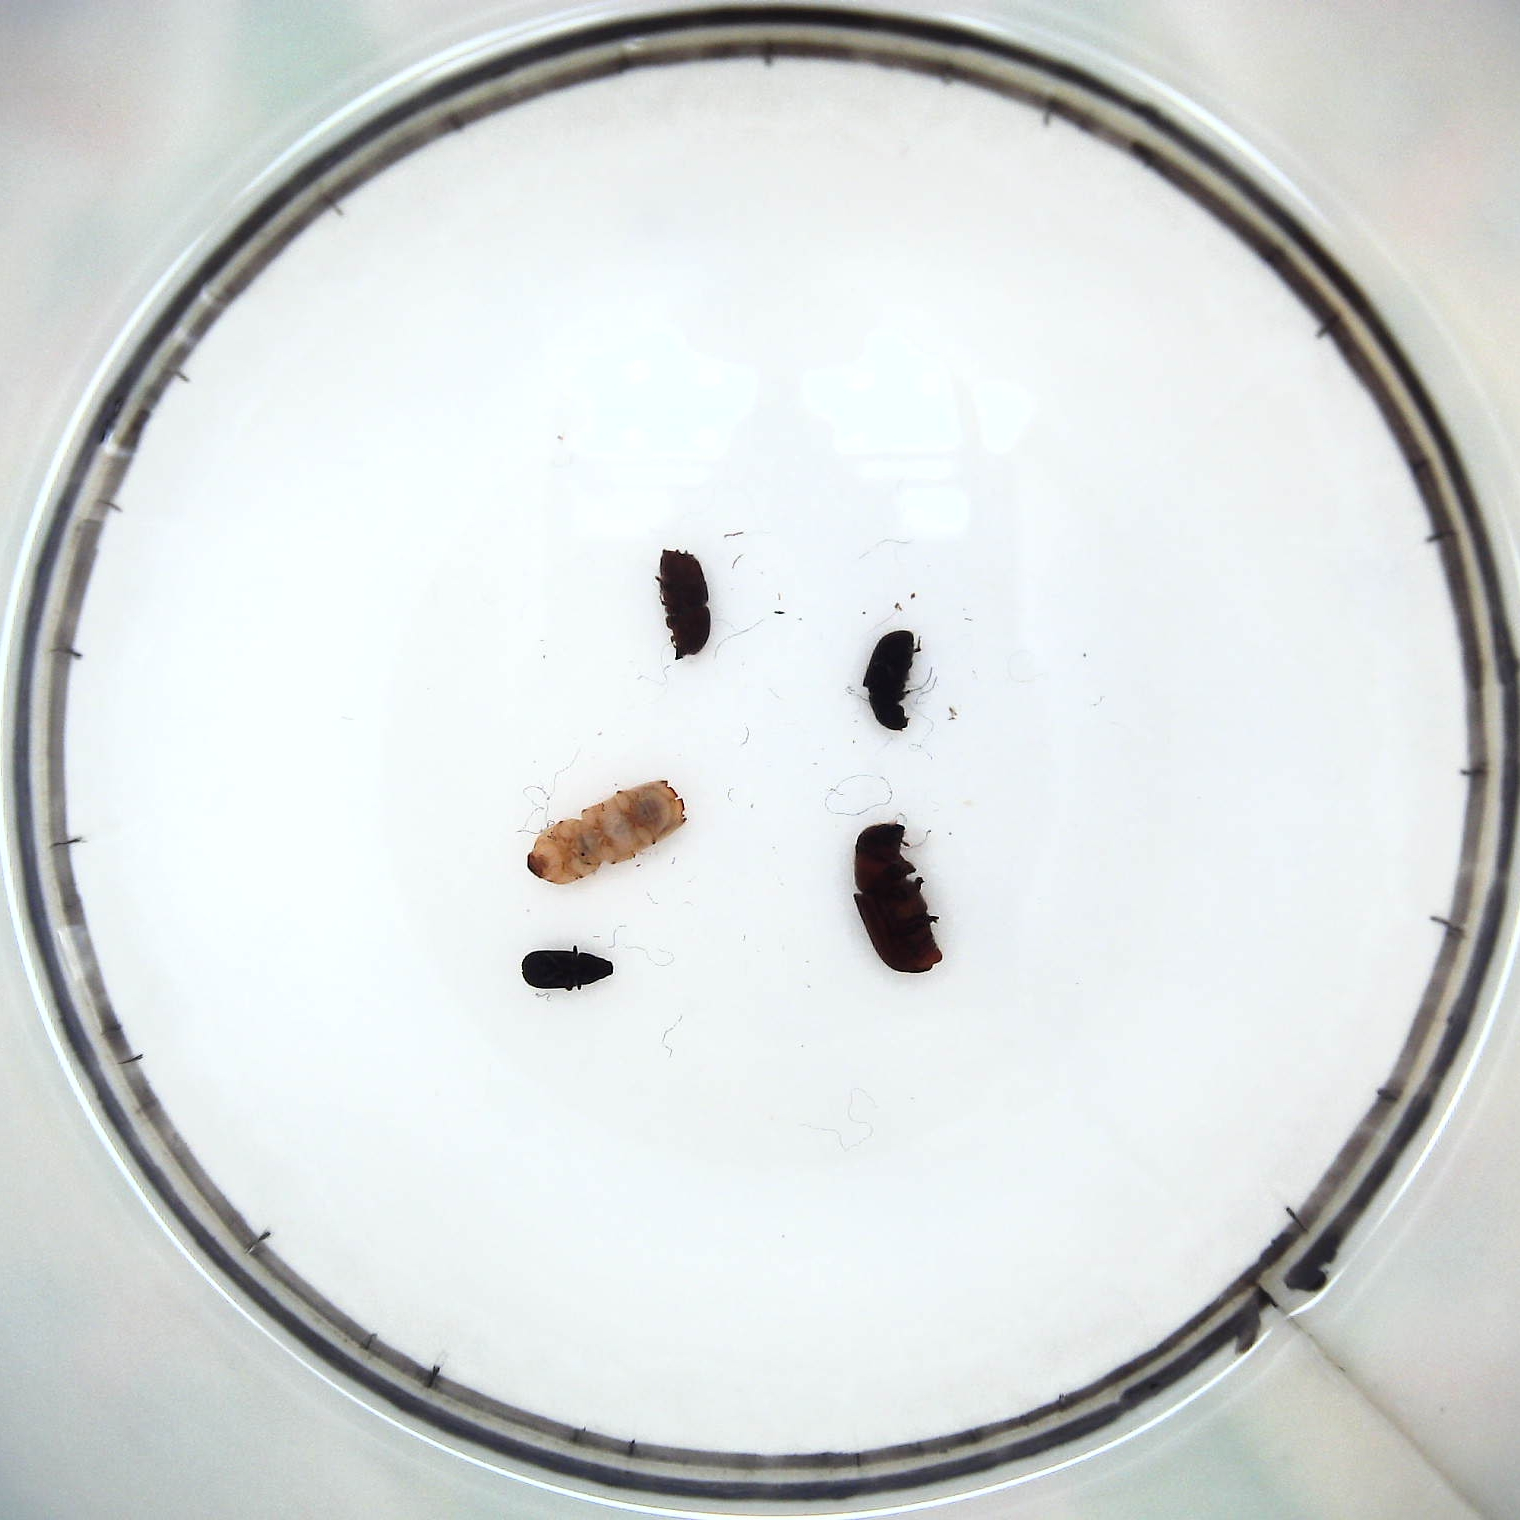Boerner: (529, 778, 686, 888)
Leconte: (853, 823, 947, 976)
Linnaeus: (656, 546, 714, 664)
armandi: (864, 626, 923, 731)
coleoptera: (518, 945, 614, 997)
